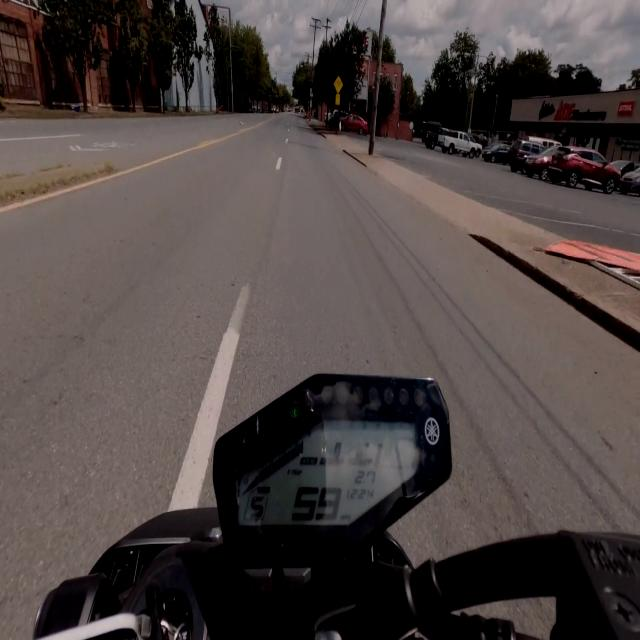car: (548, 146, 620, 194), (507, 139, 545, 174), (438, 130, 481, 158), (524, 147, 558, 180), (421, 121, 442, 149), (482, 143, 509, 164), (342, 114, 368, 135), (620, 167, 639, 194), (611, 160, 639, 177)
motorcycle: (34, 376, 639, 639)
